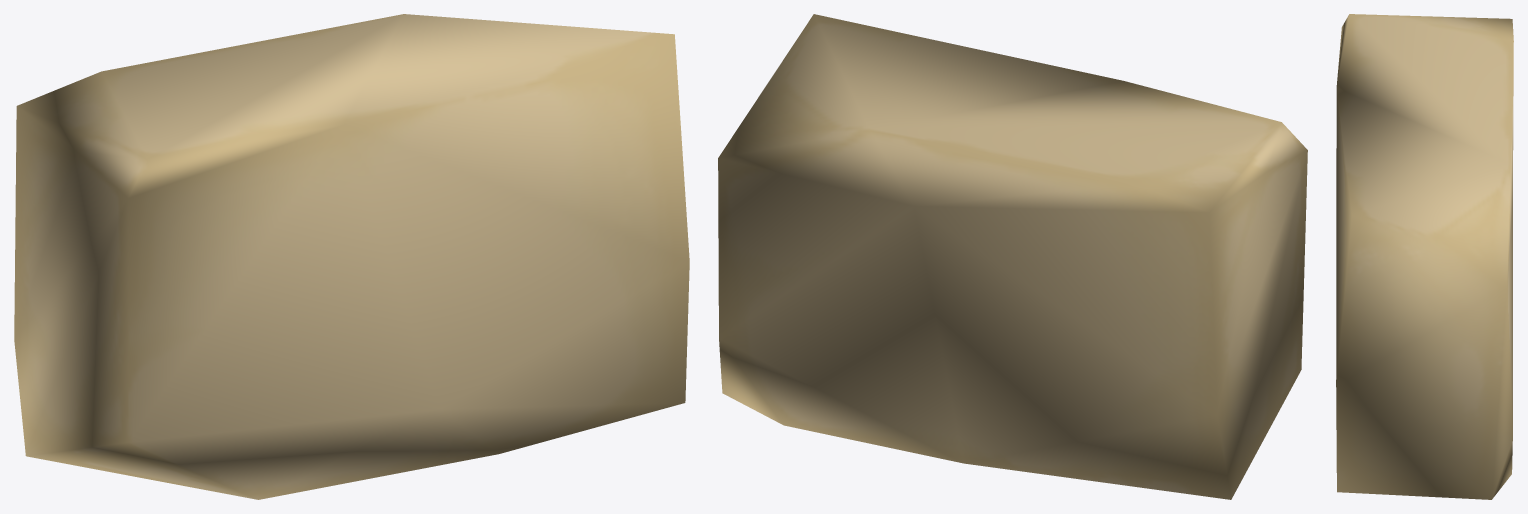
Rendered from Brick1.fbx.
3 views of the same model, side by side, from view 1: azimuth 30°, elevation 25°; view 2: azimuth 150°, elevation 25°; view 3: azimuth 270°, elevation 25° (orthographic). The views are drawn at different scales.
Visible parts, largest first — view 1: 1low1; view 2: 1low1; view 3: 1low1.
Boxes of the visible parts, x1,y1,x2,y2 form: 1low1: [14, 14, 689, 499]; 1low1: [718, 14, 1307, 499]; 1low1: [1336, 14, 1513, 499].
Size of the model in its own units: 0.5287 by 0.3346 by 0.1854.
Materials: 1 (1 with a texture image).
